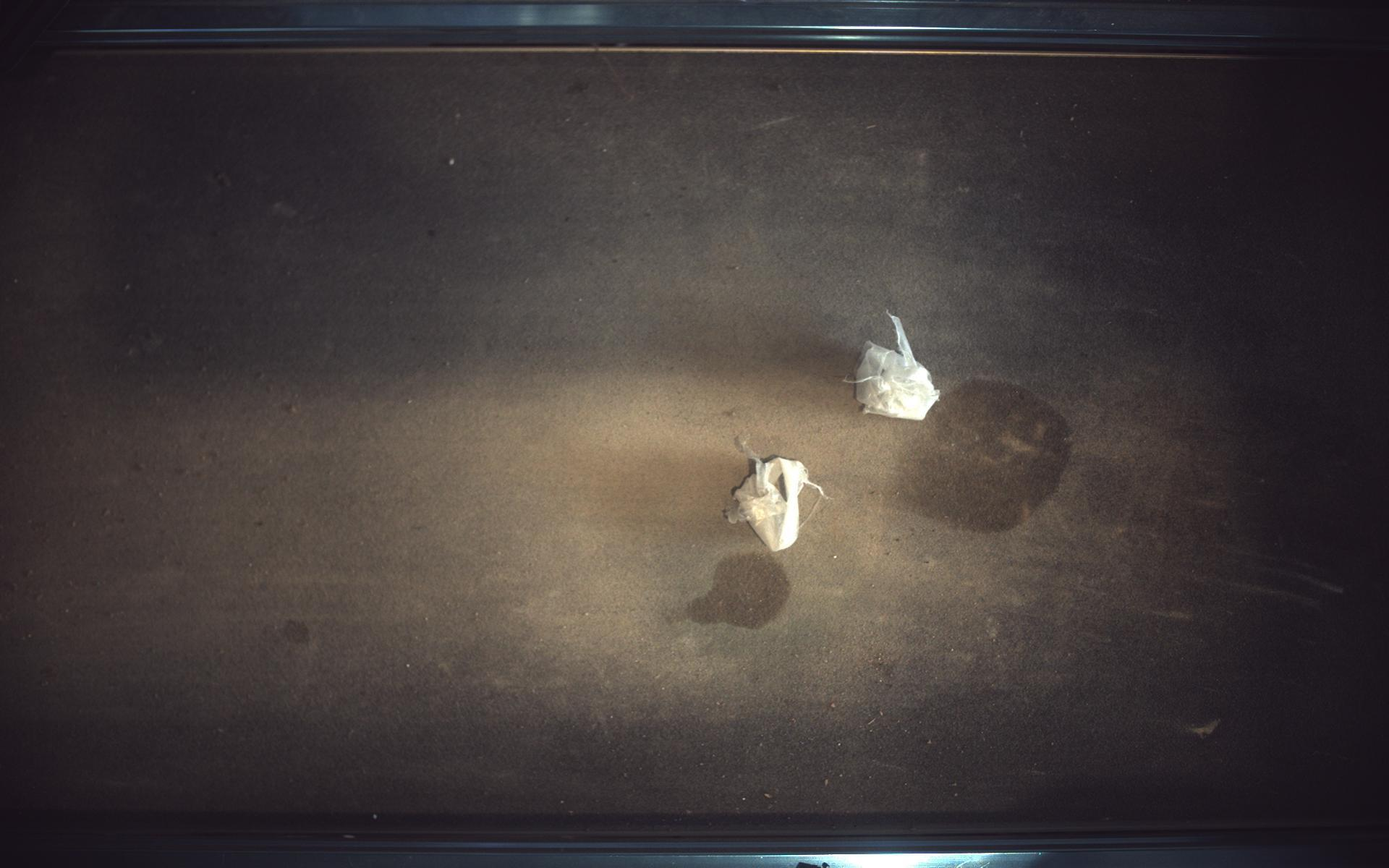general_w: (725, 437, 828, 552), (847, 315, 942, 420)
